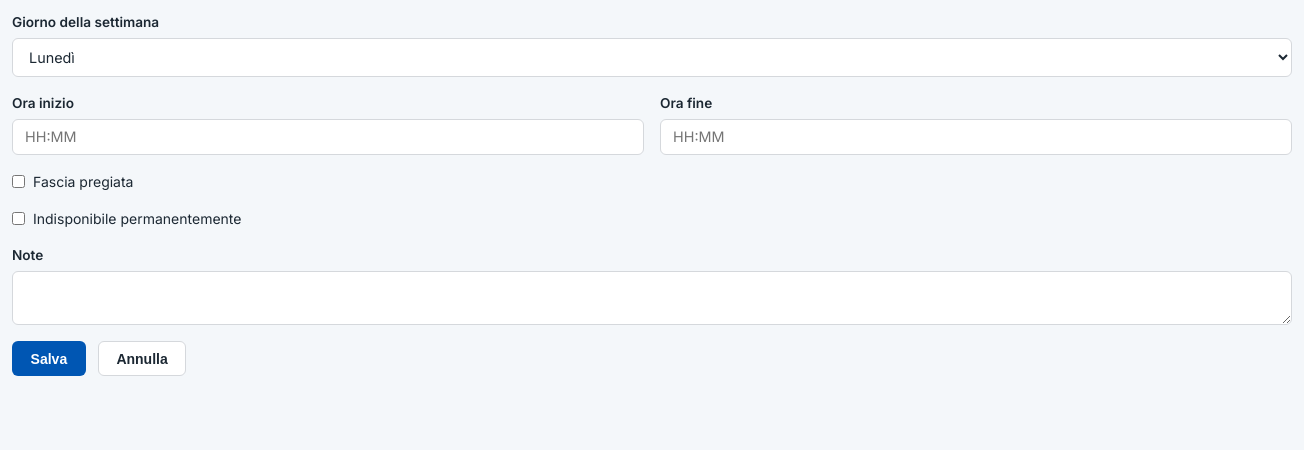
Test: SlotForm › orario senza zero iniziale (es. "9:00"): mostra errore di formato, non chiama l'API
The width and height of the screenshot is (1304, 450).
Select "Lunedì" in the dropdown labelled "Giorno della settimana" at [652, 57], box [12,38,1292,77]
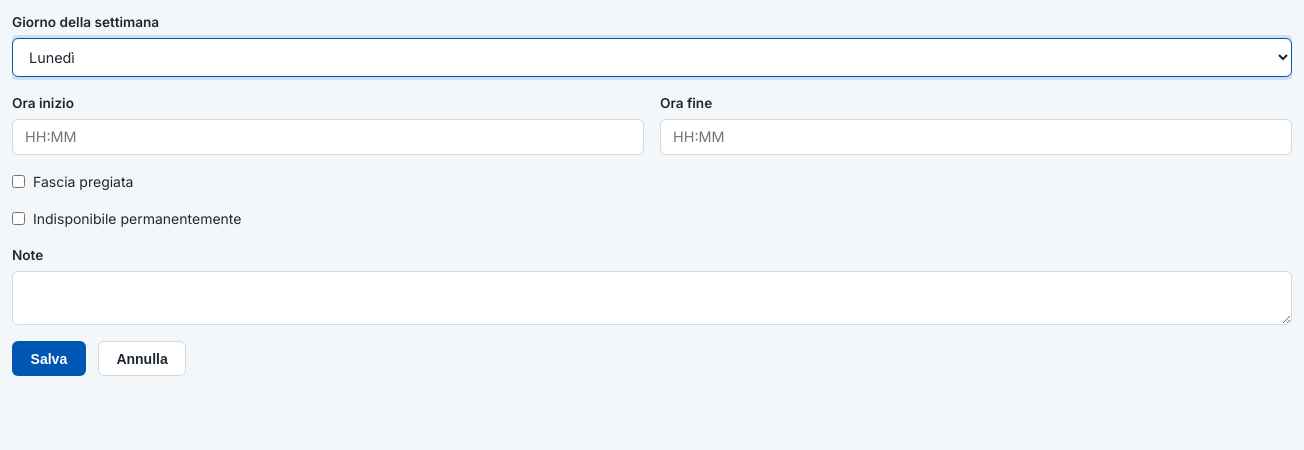
Type "9:00" into the field labelled "Ora inizio" at [328, 137], box [12,119,644,155]
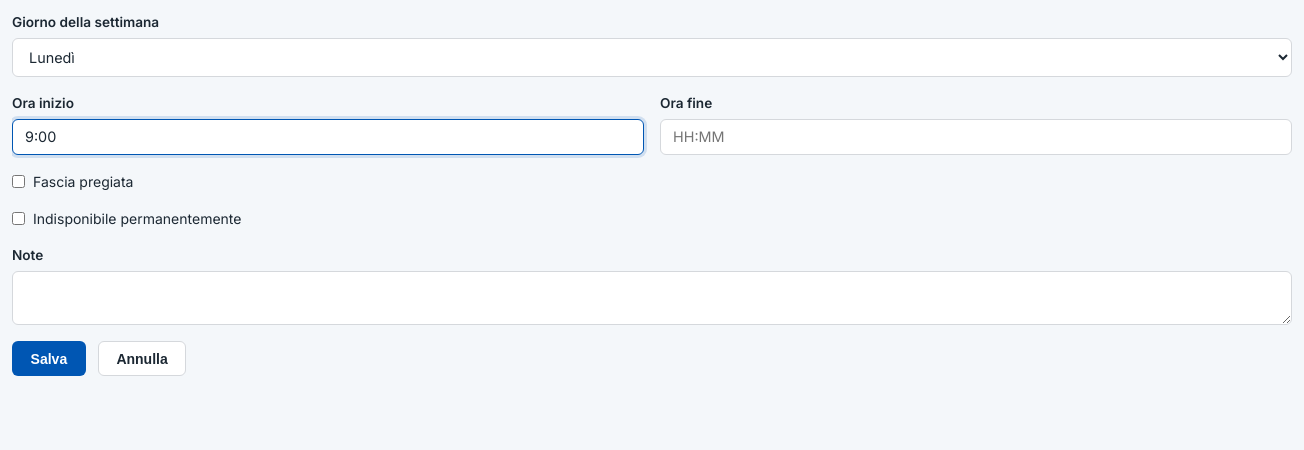
Type "10:00" into the field labelled "Ora fine" at [976, 137], box [660,119,1292,155]
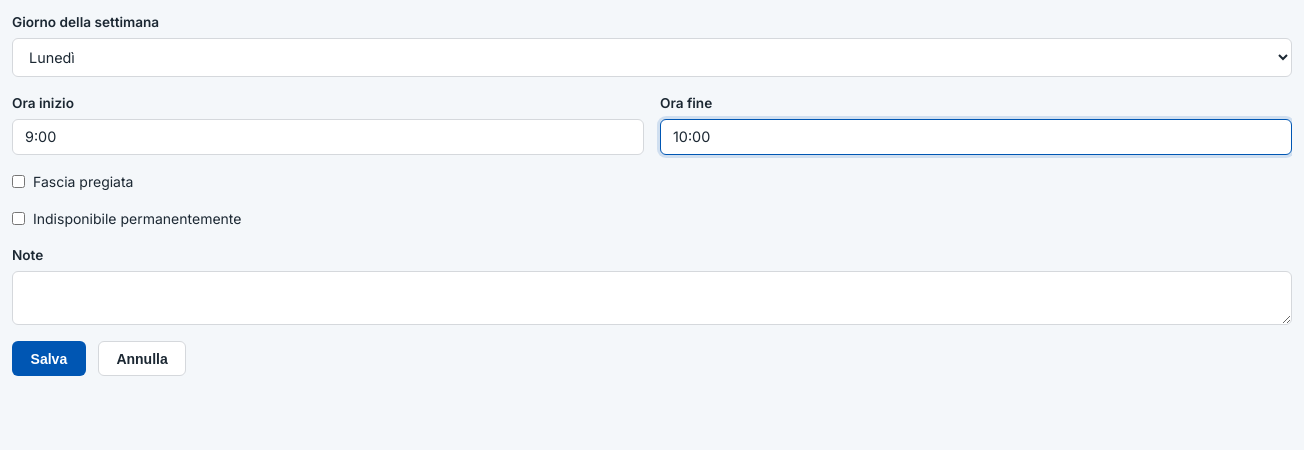
Click the button "Salva" at [49, 358], box [12,341,86,376]
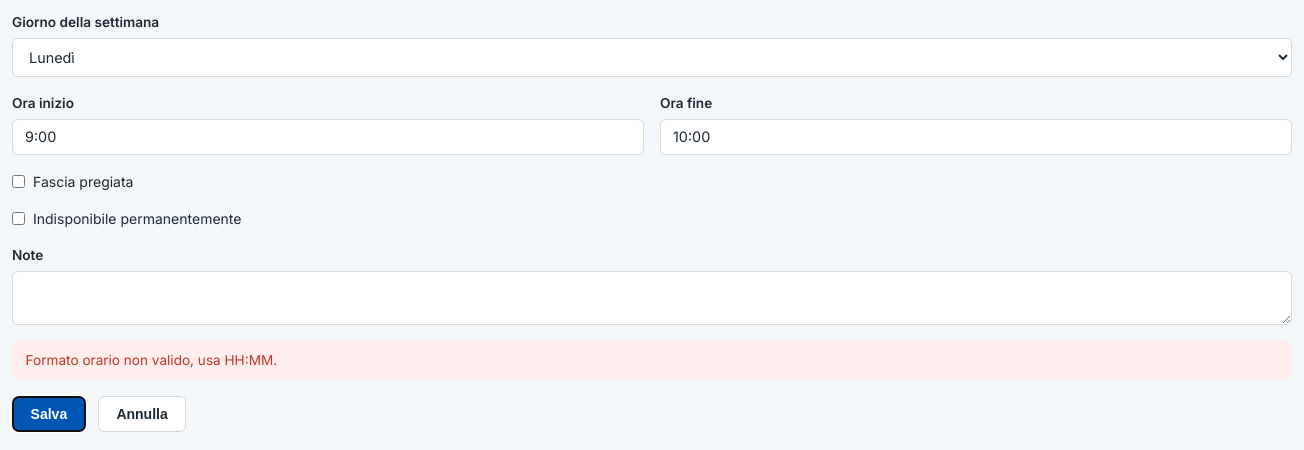
Result: the text "Formato orario non valido, usa HH:MM." is shown at [12,341,1292,380]
